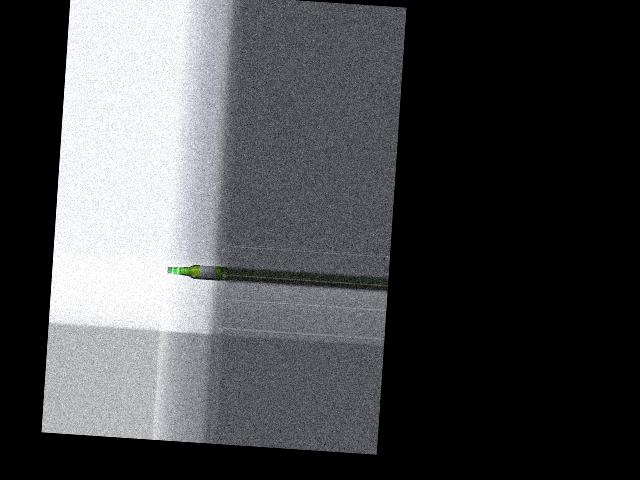beer: (167, 263, 222, 280)
